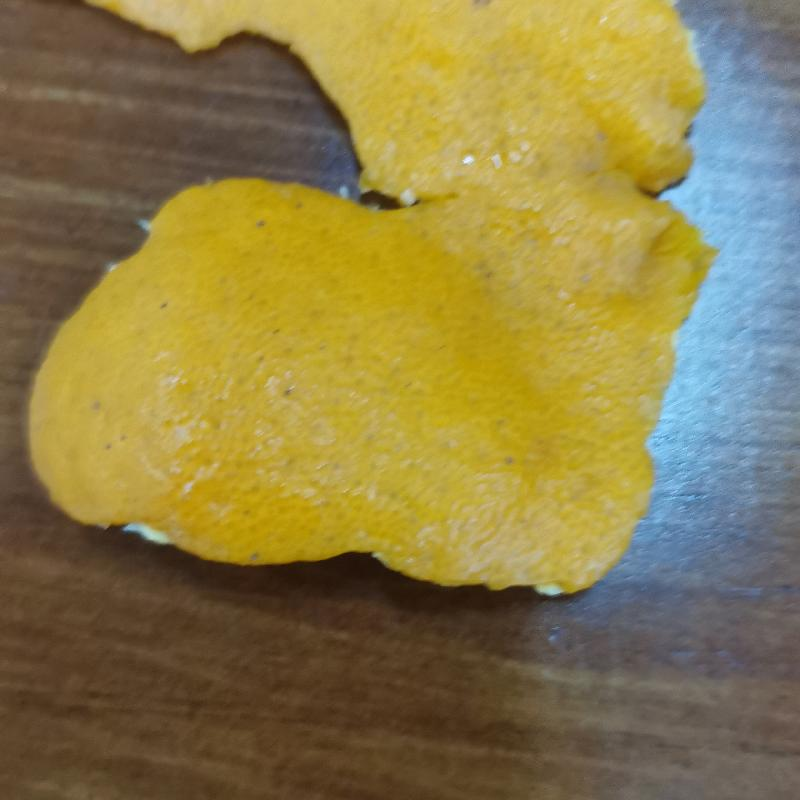orange: (24, 0, 716, 605)
